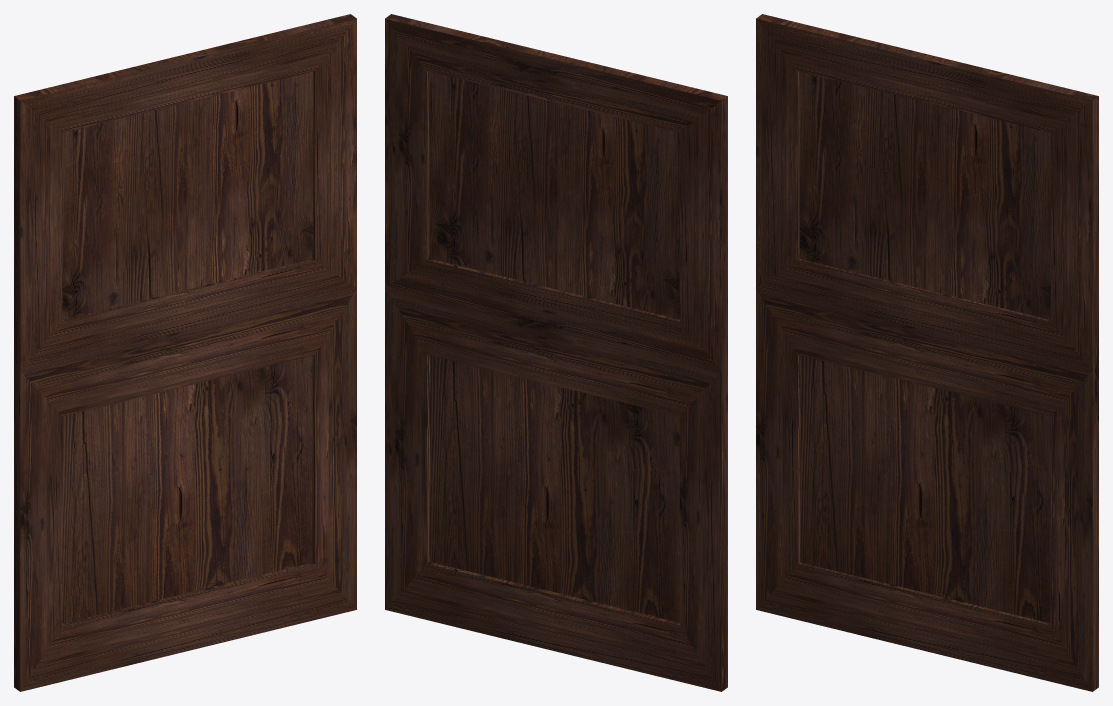
File: WoodenDoor.fbx
The picture shows the model from 3 angles, left to right: view 1: azimuth 30°, elevation 25°; view 2: azimuth 150°, elevation 25°; view 3: azimuth 330°, elevation 25°; orthographic projection.
Parts seen in each view (by area): view 1: WoodenDoor; view 2: WoodenDoor; view 3: WoodenDoor.
Part boxes in pixels (left/top/right/bottom): WoodenDoor: left=14, top=14, right=356, bottom=691; WoodenDoor: left=385, top=14, right=727, bottom=691; WoodenDoor: left=756, top=14, right=1098, bottom=691.
Size of the model in its own units: 104 by 175 by 3.37.
Materials: 1 (1 with a texture image).
